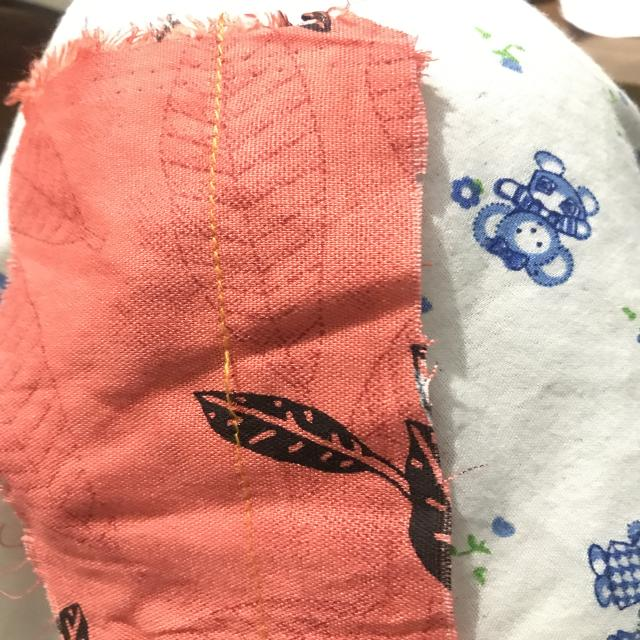good: (204, 183, 226, 280)
skip: (170, 335, 254, 433)
